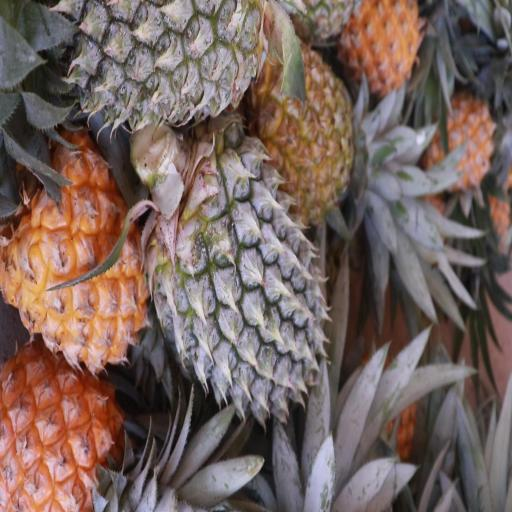------------------------------: (259, 44, 352, 210)
Pineapple - v8 v1: (4, 146, 148, 368), (0, 359, 132, 510), (345, 0, 420, 98), (425, 100, 495, 196)
